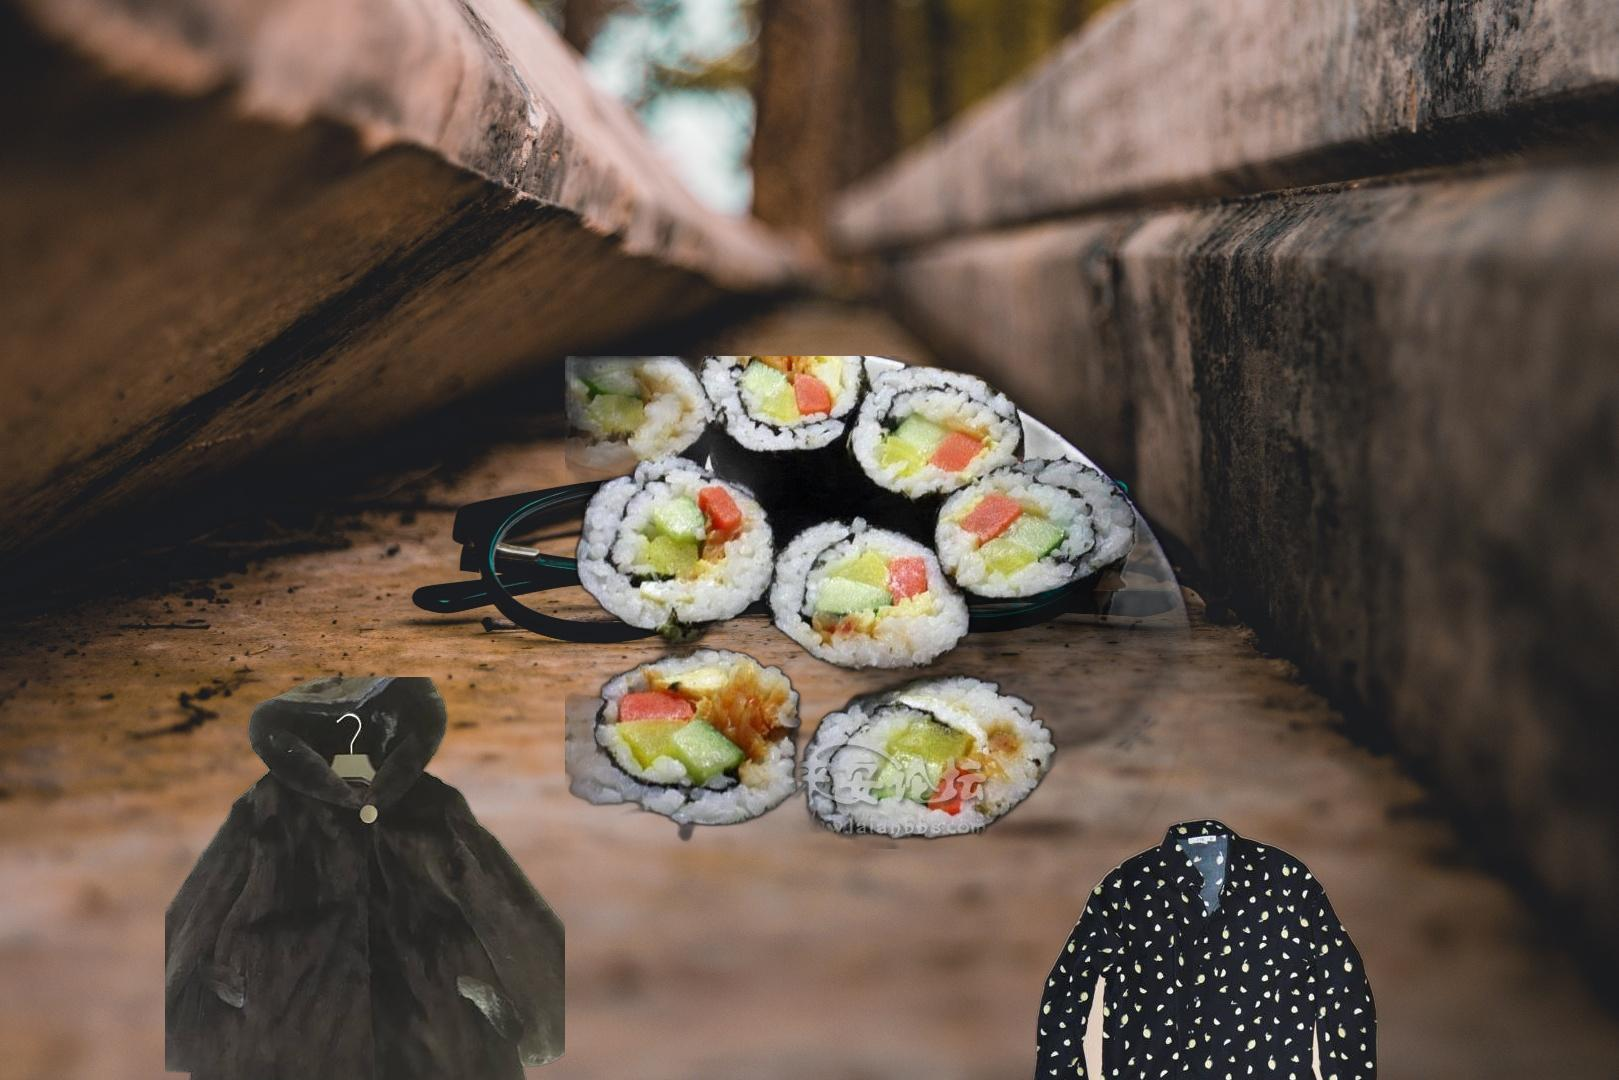biological: (565, 356, 1209, 849)
clothes: (165, 677, 565, 1080), (1026, 814, 1388, 1080)
